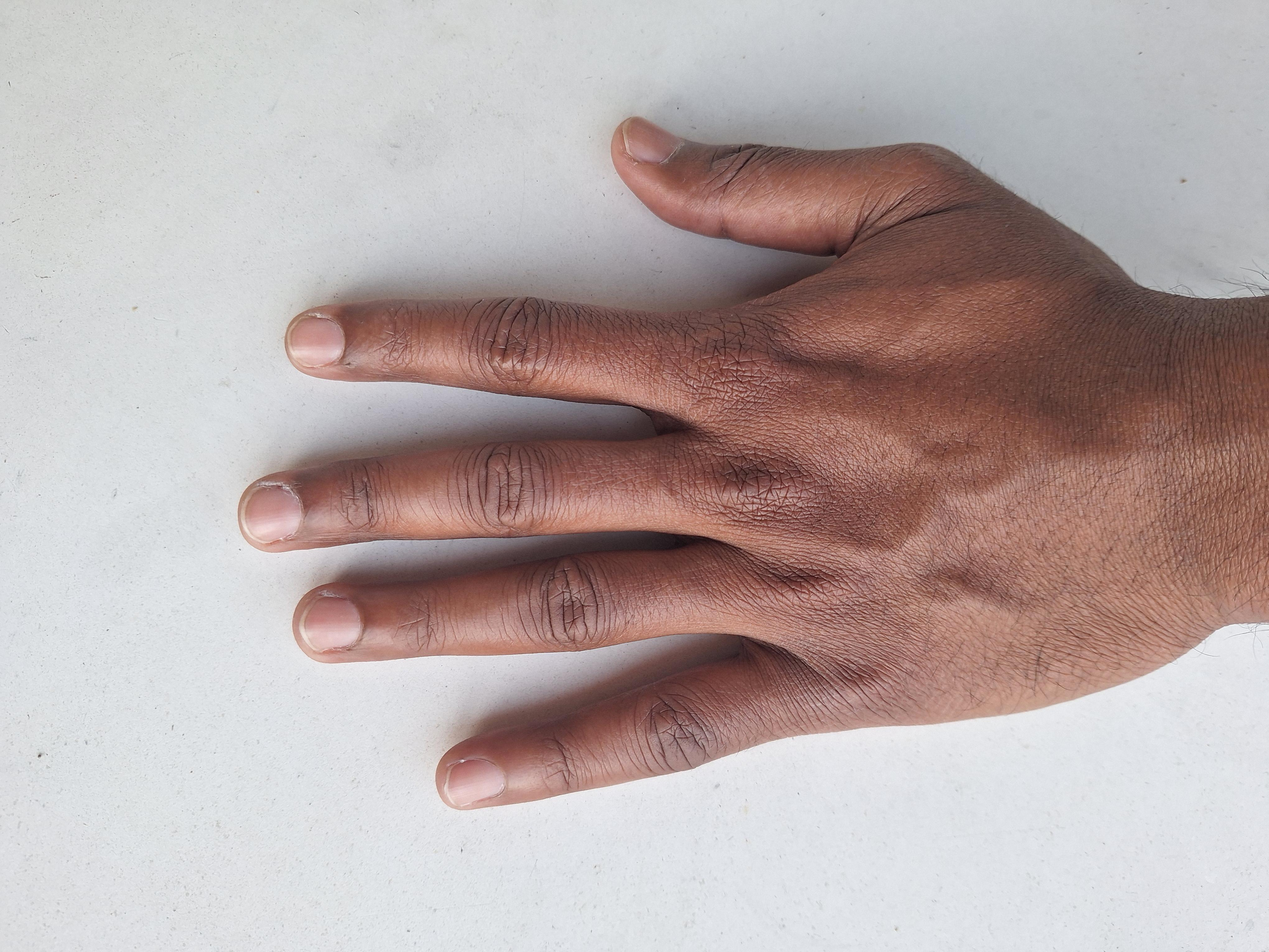Fingernail: (240, 486, 301, 544), (299, 595, 360, 652), (288, 316, 344, 367), (623, 117, 683, 164), (445, 760, 504, 806)
